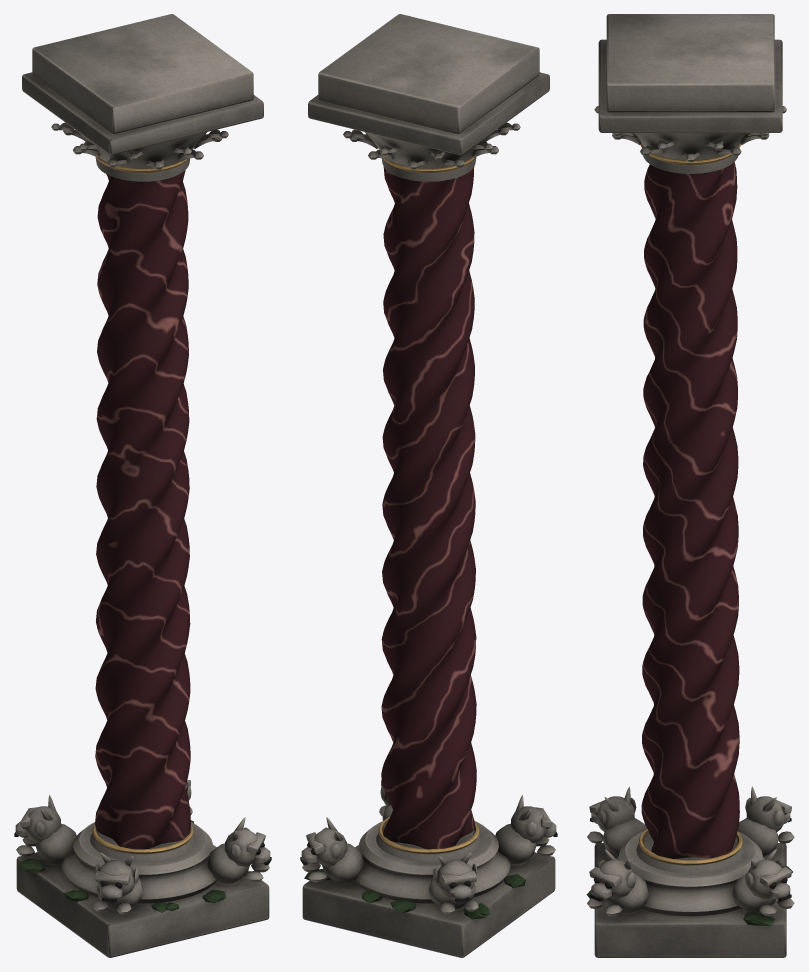
Rendered from PillarTwisted.fbx.
3 renders of one model, left to right at view 1: azimuth 30°, elevation 25°; view 2: azimuth 150°, elevation 25°; view 3: azimuth 270°, elevation 25°, orthographic. The views are drawn at different scales.
Parts seen in each view (by area): view 1: PillarTwisted; view 2: PillarTwisted; view 3: PillarTwisted.
Boxes of the visible parts, <box> form: PillarTwisted: <box>14,14,271,957</box>; PillarTwisted: <box>300,14,557,957</box>; PillarTwisted: <box>586,14,794,957</box>.
Bounding box in the file's own units: 264 × 1200 × 260.
